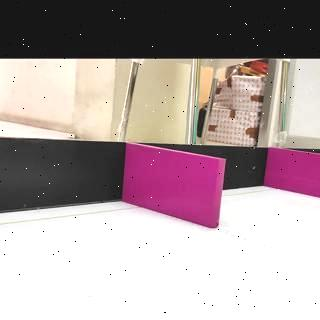xparking: (128, 156, 221, 220), (271, 156, 320, 196)
